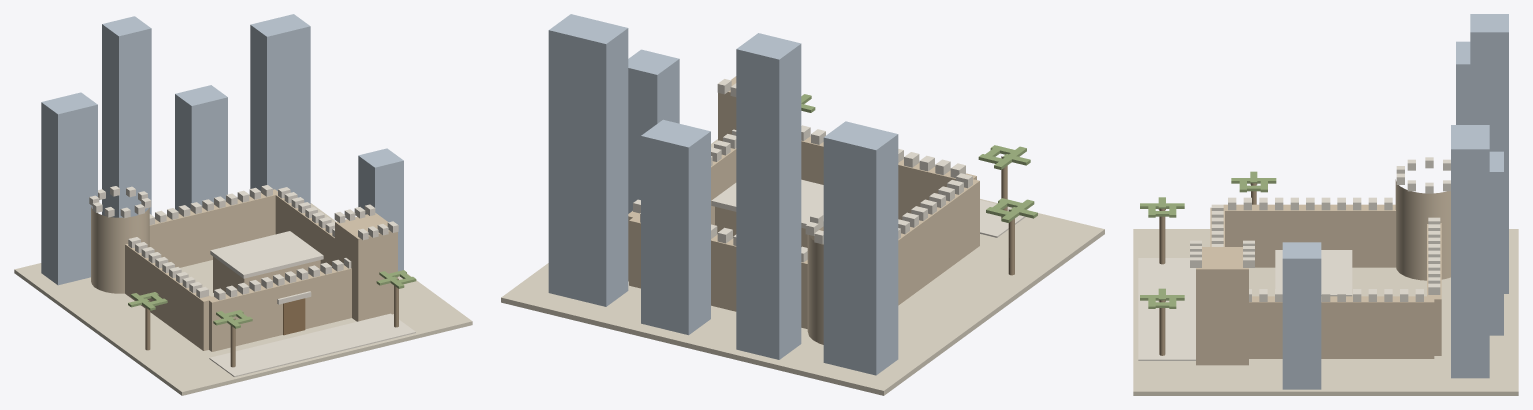
The model's file is al-hisn-today.glb.
The picture shows the model from 3 angles, left to right: view 1: azimuth 30°, elevation 25°; view 2: azimuth 150°, elevation 25°; view 3: azimuth 270°, elevation 25°; orthographic projection. The views are drawn at different scales.
Parts seen in each view (by area): view 1: al-hisn-today.glb; view 2: al-hisn-today.glb; view 3: al-hisn-today.glb.
Part boxes in pixels (x1,y1,x2,y2): al-hisn-today.glb: (14,14,472,395); al-hisn-today.glb: (501,14,1104,395); al-hisn-today.glb: (1133,14,1518,395).
Bounding box in the file's own units: 1.6 × 1.22 × 1.6.
